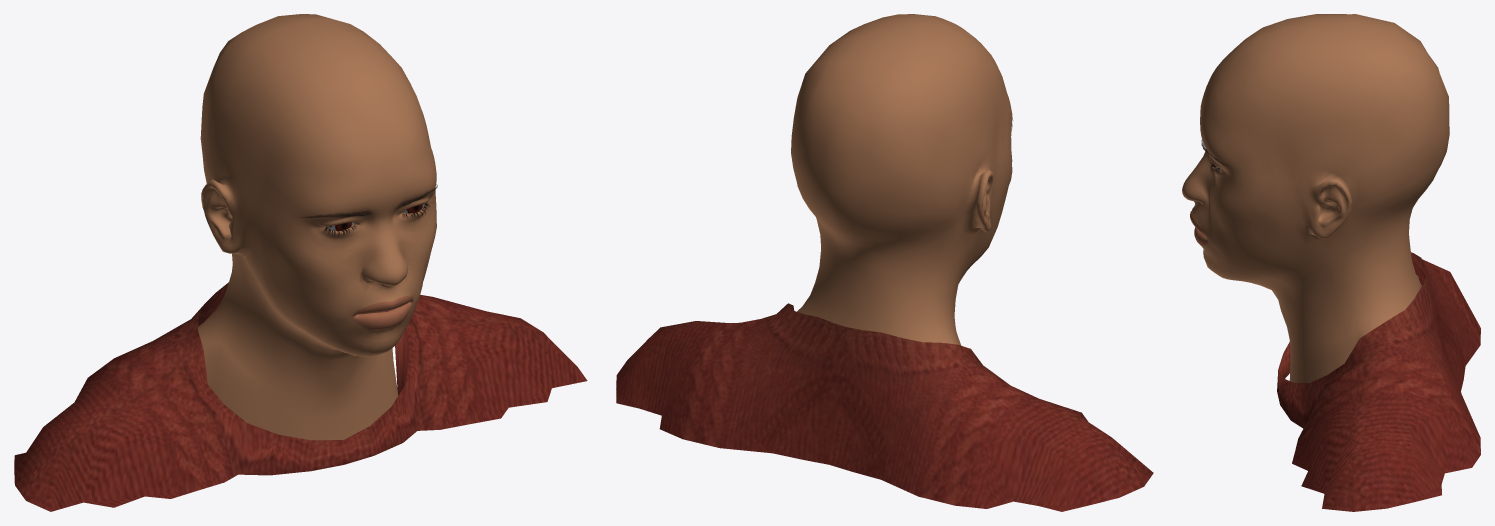
File: man-10.glb
3 views of the same model, side by side, from view 1: azimuth 30°, elevation 25°; view 2: azimuth 150°, elevation 25°; view 3: azimuth 270°, elevation 25° (orthographic). The views are drawn at different scales.
Parts seen in each view (by area): view 1: mpfb-face, mpfb-face.mindfront_knitted_sweater_02; view 2: mpfb-face.mindfront_knitted_sweater_02, mpfb-face; view 3: mpfb-face, mpfb-face.mindfront_knitted_sweater_02.
Boxes of the visible parts, left/top/right/bottom form: mpfb-face: left=197, top=14, right=436, bottom=440; mpfb-face.mindfront_knitted_sweater_02: left=14, top=282, right=587, bottom=511; mpfb-face.mindfront_knitted_sweater_02: left=616, top=303, right=1153, bottom=511; mpfb-face: left=791, top=14, right=1012, bottom=345; mpfb-face: left=1182, top=14, right=1449, bottom=383; mpfb-face.mindfront_knitted_sweater_02: left=1277, top=252, right=1480, bottom=511.
Bounding box in the file's own units: 0.4638 × 0.33 × 0.2431.
8 materials, 6 textured.
